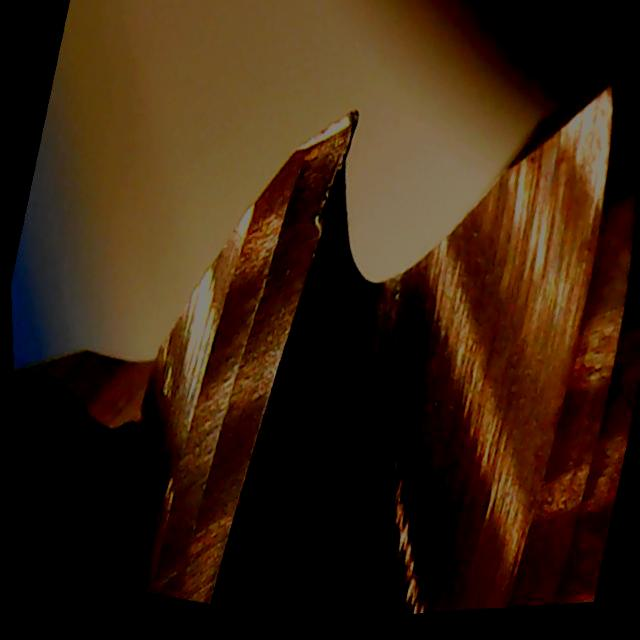Tool-wear-class-1: (174, 84, 379, 413)
